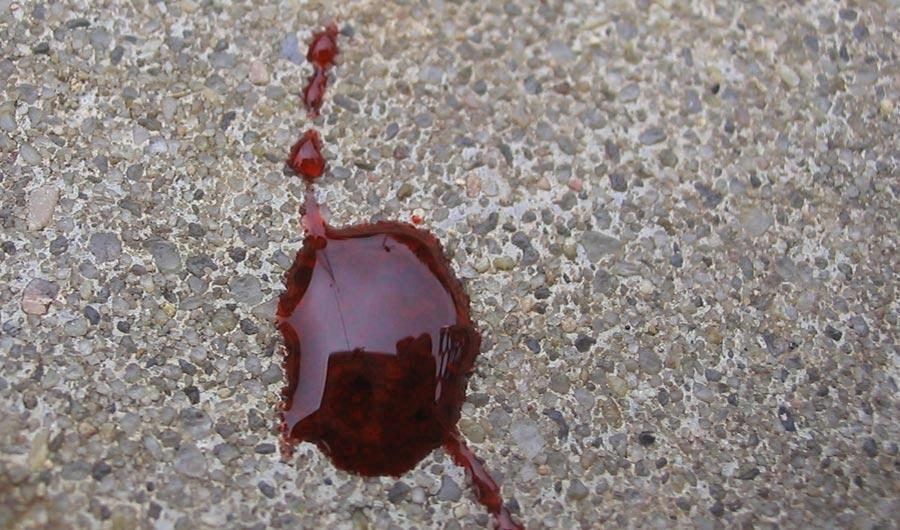Bloodstain-Detection: (280, 218, 476, 469), (310, 36, 331, 112), (291, 139, 323, 176)
